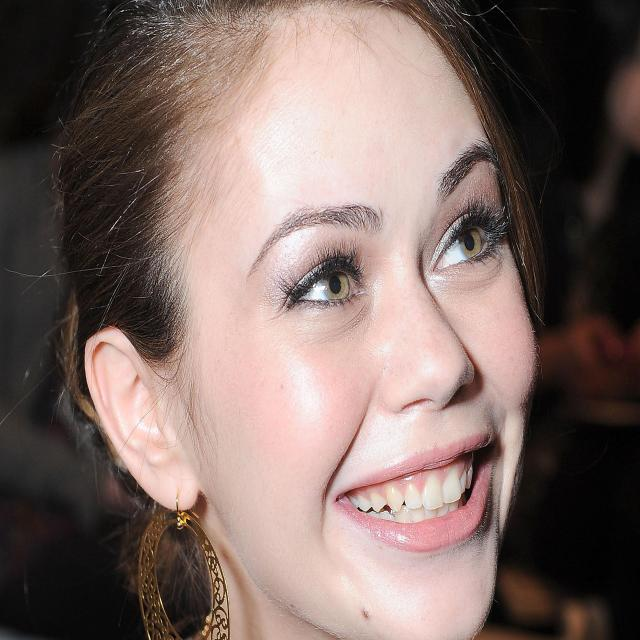no-earmuff: (69, 305, 220, 532)
